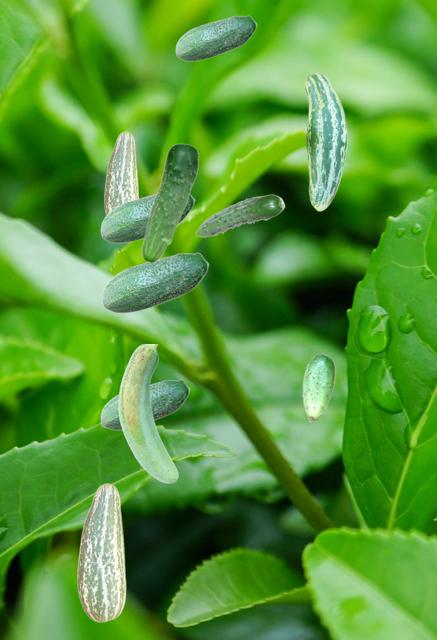cucumber: (118, 344, 177, 482), (140, 143, 198, 262), (77, 483, 125, 621), (101, 252, 208, 312), (304, 72, 346, 210), (100, 193, 194, 242), (100, 379, 189, 429), (195, 194, 284, 236), (175, 15, 256, 60), (104, 131, 138, 215), (302, 353, 334, 421)
